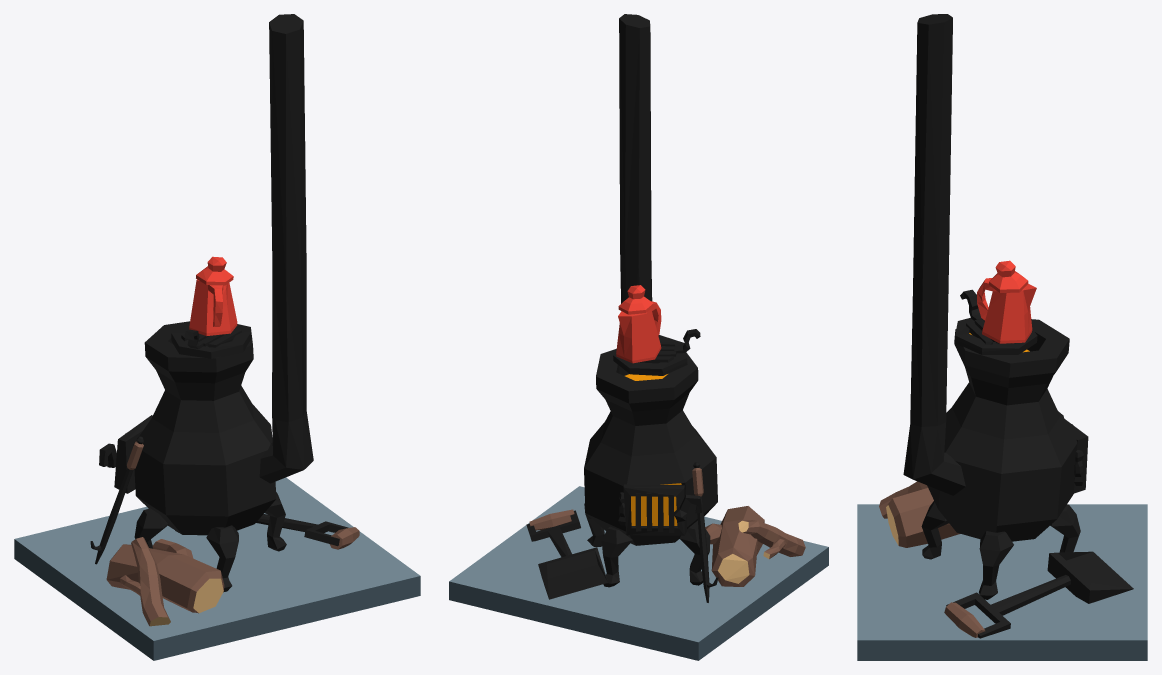
File: soba.glb
3 renders of one model, left to right at view 1: azimuth 30°, elevation 25°; view 2: azimuth 150°, elevation 25°; view 3: azimuth 270°, elevation 25°, orthographic. The views are drawn at different scales.
Parts seen in each view (by area): view 1: group715680428, group689192553, group997120683, group1204341888, group35413673, group1885997043, group521621984; view 2: group715680428, group689192553, group1885997043, group997120683, group1204341888, group35413673, group521621984; view 3: group715680428, group689192553, group1885997043, group1204341888, group997120683.
Part boxes in pixels (x1,y1,x2,y2): group715680428: [99, 14, 313, 592]; group689192553: [14, 477, 420, 660]; group997120683: [106, 539, 224, 613]; group1204341888: [189, 256, 237, 335]; group35413673: [120, 537, 170, 626]; group1885997043: [256, 514, 359, 549]; group521621984: [90, 436, 143, 564]; group715680428: [584, 14, 717, 587]; group689192553: [449, 486, 828, 660]; group1885997043: [526, 509, 607, 599]; group997120683: [705, 506, 764, 586]; group1204341888: [616, 285, 661, 363]; group35413673: [738, 520, 805, 559]; group521621984: [692, 462, 718, 602]; group715680428: [903, 14, 1088, 599]; group689192553: [857, 504, 1147, 660]; group1885997043: [944, 551, 1133, 638]; group1204341888: [977, 260, 1036, 343]; group997120683: [886, 488, 960, 547].
Bounding box in the file's own units: 0.42 × 0.8597 × 0.38.
